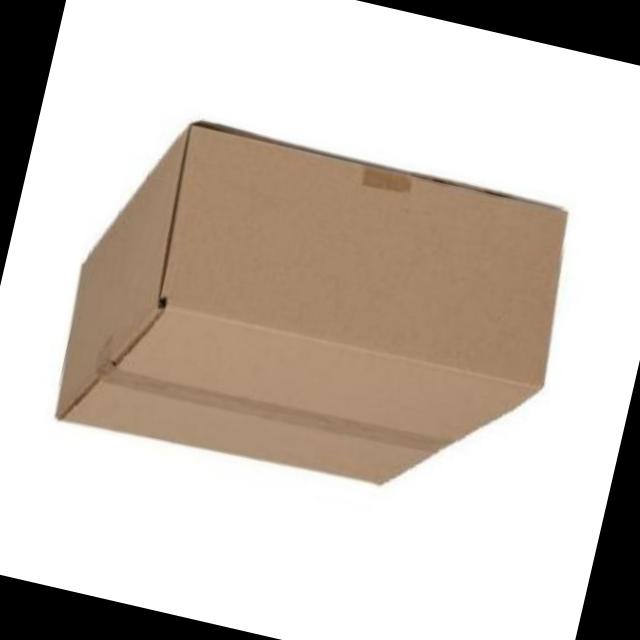box: (39, 92, 596, 531)
